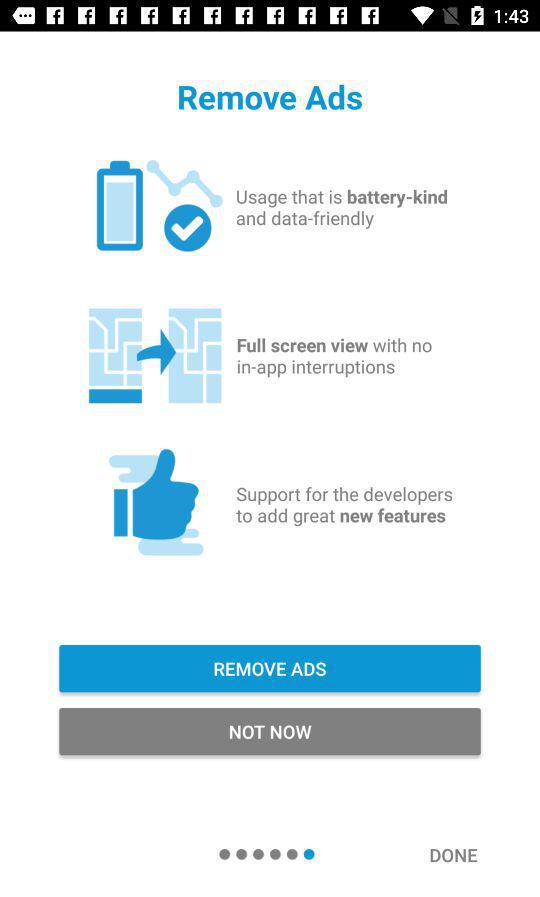Image: (89, 308, 223, 405), (96, 160, 224, 254), (109, 448, 205, 557)
PageIndicator: (219, 848, 316, 861)
Text: (236, 486, 453, 528), (237, 189, 448, 231), (237, 338, 433, 379), (179, 85, 363, 112), (430, 848, 478, 863)
TextButton: (59, 645, 481, 693), (60, 708, 482, 756)
UpperTaskBar: (1, 1, 540, 33)
